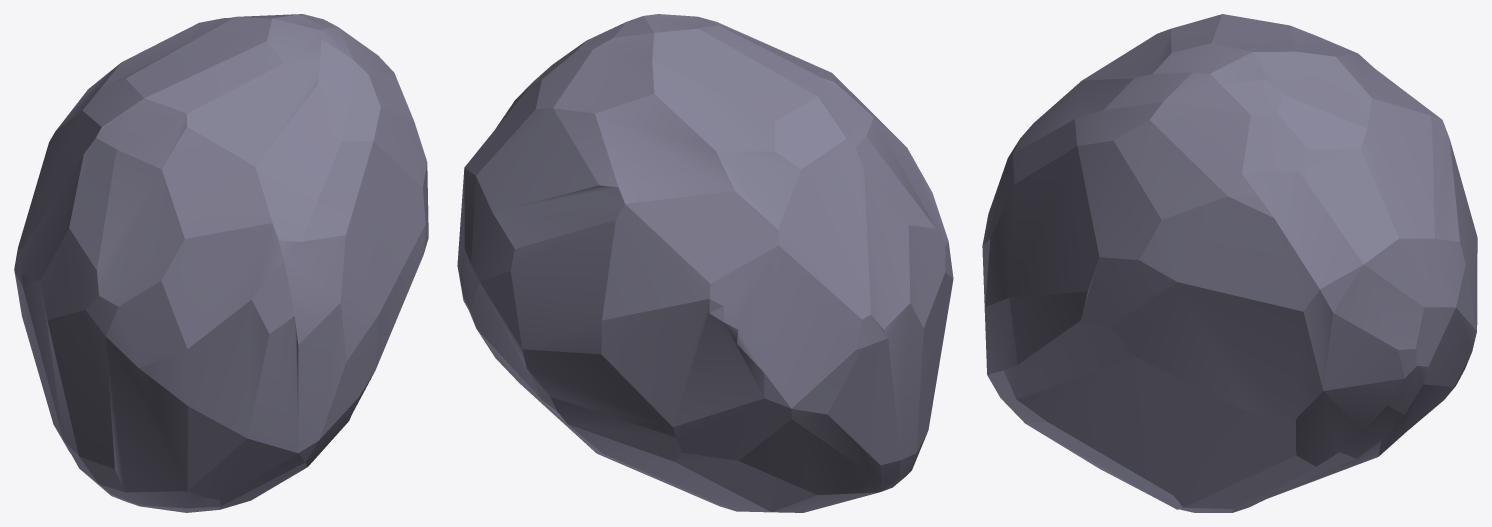
File: nigredo.gltf
The picture shows the model from 3 angles, left to right: view 1: azimuth 30°, elevation 25°; view 2: azimuth 150°, elevation 25°; view 3: azimuth 270°, elevation 25°; orthographic projection. The views are drawn at different scales.
Parts seen in each view (by area): view 1: nigredo; view 2: nigredo; view 3: nigredo.
Part boxes in pixels (box(x1,y1,x2,y2)): nigredo: box(14, 14, 428, 512); nigredo: box(457, 14, 953, 512); nigredo: box(982, 14, 1477, 512).
Size of the model in its own units: 4.28 by 4.66 by 4.2.
